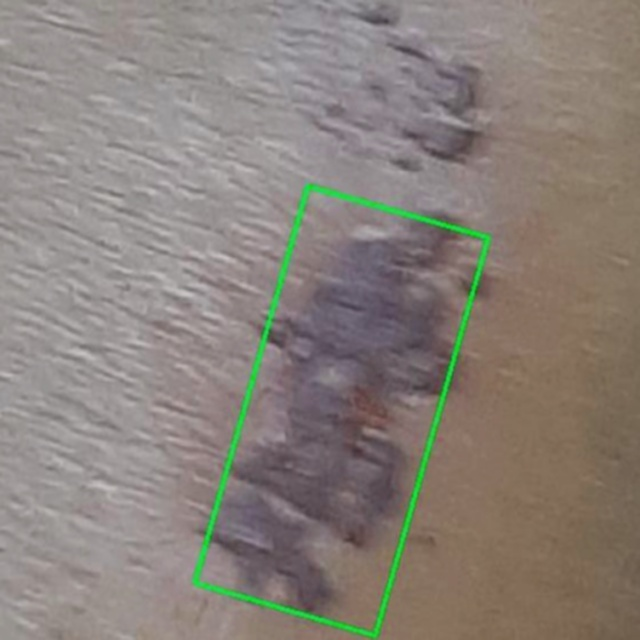Atopic Dermatitis: (193, 185, 488, 634)
